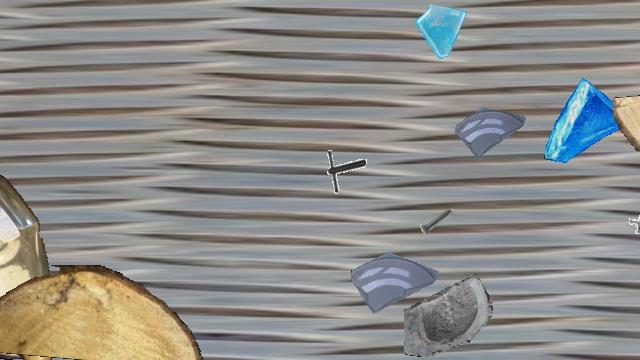glass: (542, 77, 636, 171), (404, 271, 492, 359), (351, 234, 439, 322), (455, 91, 527, 163), (414, 1, 472, 59)
metal: (318, 147, 366, 195), (416, 201, 458, 243), (0, 150, 19, 212), (622, 203, 640, 243)
plastic: (0, 1, 38, 357), (0, 175, 64, 359)
wood: (0, 265, 207, 359), (0, 253, 35, 359), (613, 91, 640, 159)
